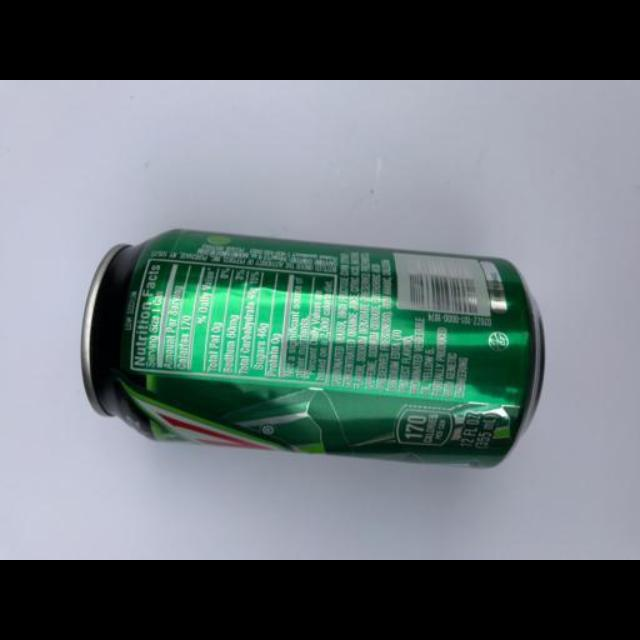lata: (81, 228, 547, 470)
